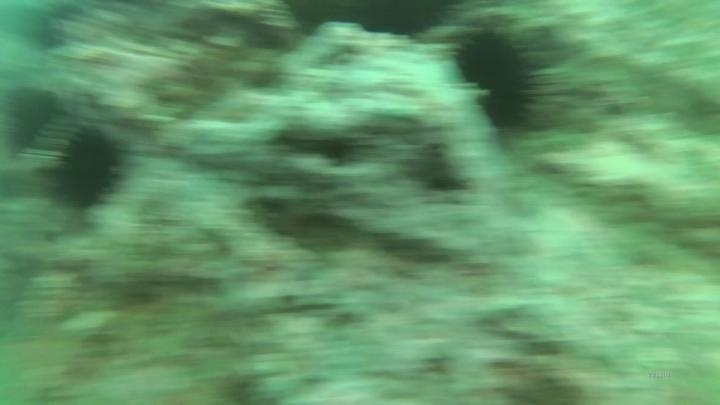echinus: (447, 23, 553, 140), (41, 120, 132, 217)
